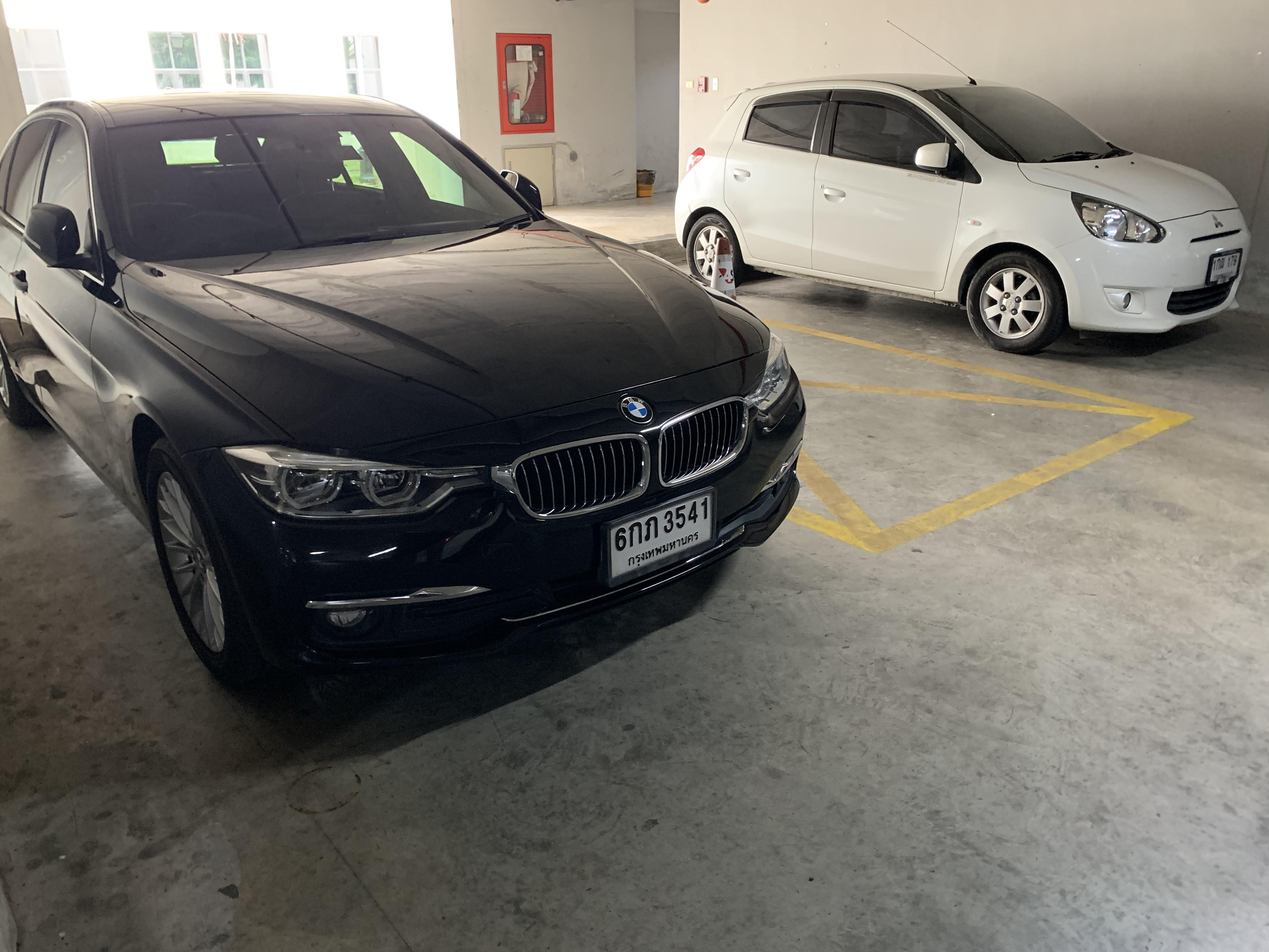license-plate: (600, 485, 721, 588), (1201, 242, 1252, 293)
